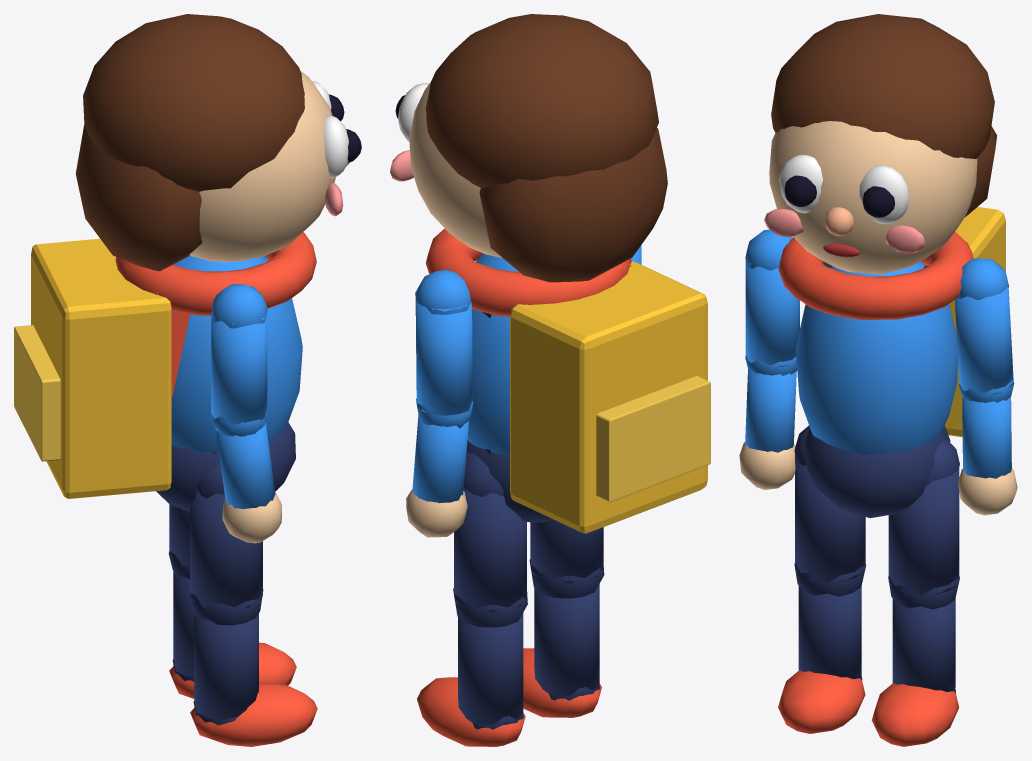
File: hrdina_stoji.glb
3 views of the same model, side by side, from view 1: azimuth 30°, elevation 25°; view 2: azimuth 150°, elevation 25°; view 3: azimuth 270°, elevation 25° (orthographic). The views are drawn at different scales.
Visible parts, largest first — view 1: Sphere.011, Cube.001, Sphere.002, Sphere.012, Sphere, Torus, Cylinder.004, Cylinder.005, Cylinder, Cube.002, Sphere.025, Cylinder.001 (+11 smaller); view 2: Cube.001, Sphere.011, Sphere.012, Cube.002, Cylinder.006, Cylinder.007, Cylinder.005, Torus, Cylinder.002, Sphere, Sphere.002, Cylinder.003 (+12 smaller); view 3: Sphere.011, Sphere, Sphere.002, Torus, Sphere.001, Cylinder.006, Cylinder.004, Cylinder.007, Cylinder.005, Cylinder.002, Cylinder, Sphere.025 (+21 smaller).
Part boxes in pixels (x1,y1,x2,y2): Sphere.011: (83, 14, 304, 191); Cube.001: (31, 238, 171, 498); Sphere.002: (189, 71, 335, 261); Sphere.012: (75, 125, 201, 271); Sphere: (171, 255, 302, 452); Torus: (115, 232, 316, 315); Cylinder.004: (190, 489, 262, 610); Cylinder.005: (194, 613, 258, 720); Cylinder: (211, 312, 267, 424); Cube.002: (14, 325, 60, 461); Sphere.025: (190, 682, 317, 746); Cylinder.001: (216, 422, 275, 509); Cube.001: (510, 261, 707, 533); Sphere.011: (425, 14, 658, 188); Sphere.012: (479, 128, 667, 282); Cube.002: (596, 376, 710, 502); Cylinder.006: (454, 488, 526, 612); Cylinder.007: (458, 613, 523, 724); Cylinder.005: (534, 584, 599, 695); Torus: (426, 228, 631, 316); Cylinder.002: (415, 299, 472, 415); Sphere: (467, 253, 518, 454); Sphere.002: (409, 82, 502, 257); Cylinder.003: (412, 414, 468, 503); Sphere.011: (771, 14, 994, 158); Sphere: (795, 261, 957, 455); Sphere.002: (769, 121, 977, 274); Torus: (778, 231, 973, 319); Sphere.001: (804, 425, 950, 518); Cylinder.006: (888, 468, 959, 595); Cylinder.004: (795, 455, 865, 582); Cylinder.007: (892, 598, 955, 691); Cylinder.005: (798, 586, 861, 679); Cylinder.002: (955, 287, 1013, 394); Cylinder: (745, 261, 799, 366); Sphere.025: (778, 670, 865, 733).
Bounding box in the file's own units: 0.5769 × 1.27 × 0.4672.
